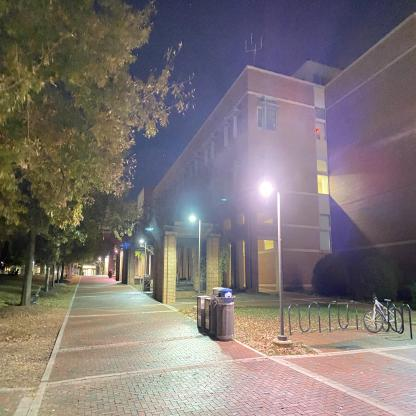eb3: (109, 79, 406, 281)
